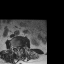CCS_normal: (17, 45, 19, 52)
LFS_severe_stenosis: (20, 44, 22, 49)
LLS_stenosis: (19, 45, 21, 49)
RFS_normal: (14, 44, 15, 50)
RLS_normal: (15, 45, 17, 50)
